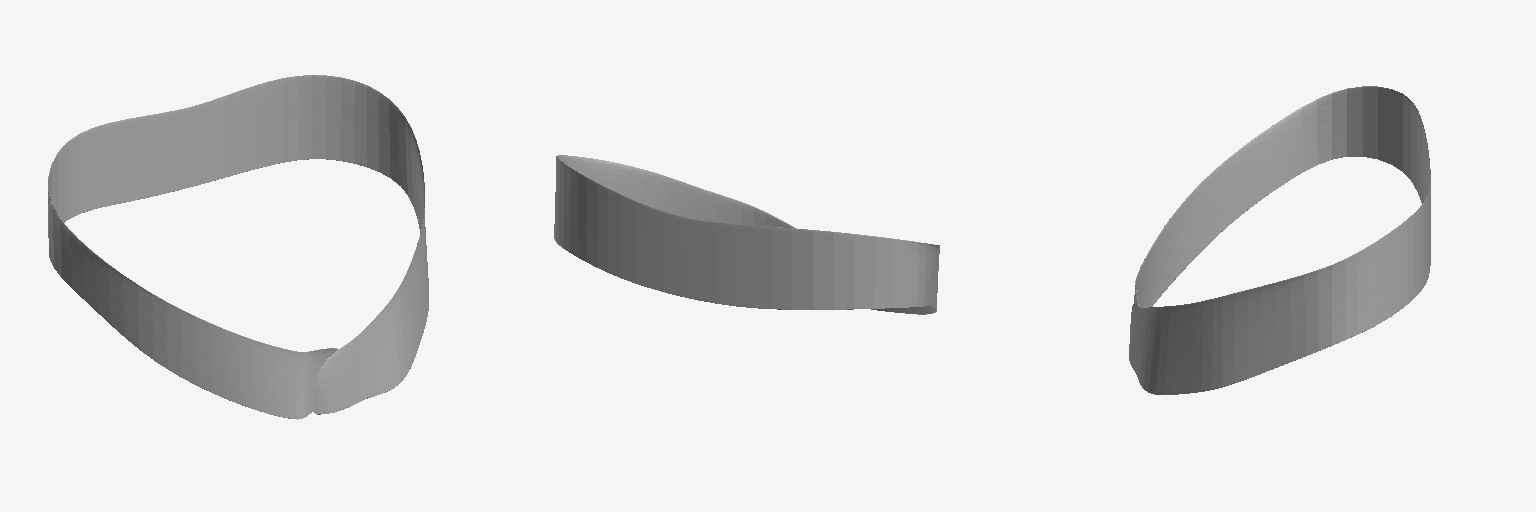
Rendered from kera_dalem.obj.
The picture shows the model from 3 angles: view 1: azimuth 30°, elevation 25°; view 2: azimuth 150°, elevation 25°; view 3: azimuth 270°, elevation 25°; orthographic projection.
Parts seen in each view (by area): view 1: Object008; view 2: Object008; view 3: Object008.
Part boxes in pixels (x1,y1,x2,y2): Object008: (48, 75, 428, 419); Object008: (554, 155, 939, 314); Object008: (1129, 86, 1430, 394).
Bounding box in the file's own units: 156 × 85.54 × 115.